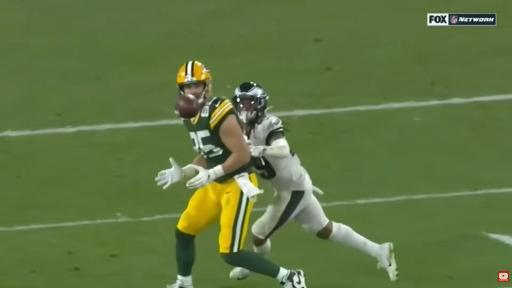Helmet: (232, 82, 268, 125), (177, 61, 211, 100)
Jersey: (184, 97, 238, 168), (253, 151, 307, 190)
Player: (156, 61, 305, 287), (232, 82, 397, 281)
